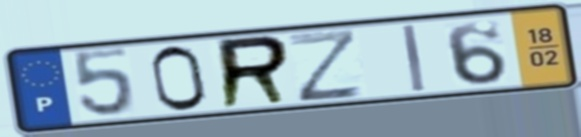0: (147, 43, 210, 113)
5: (70, 45, 138, 121)
6: (443, 19, 511, 87)
I: (398, 22, 429, 94)
R: (215, 32, 294, 112)
Z: (285, 26, 366, 105)
